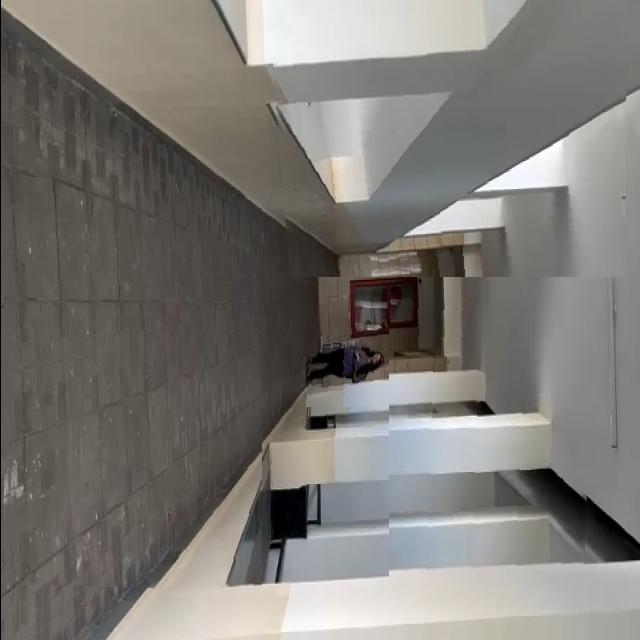floor: (0, 177, 261, 592)
moving_object: (304, 326, 384, 407)
wall: (267, 3, 625, 277), (388, 299, 593, 612)
